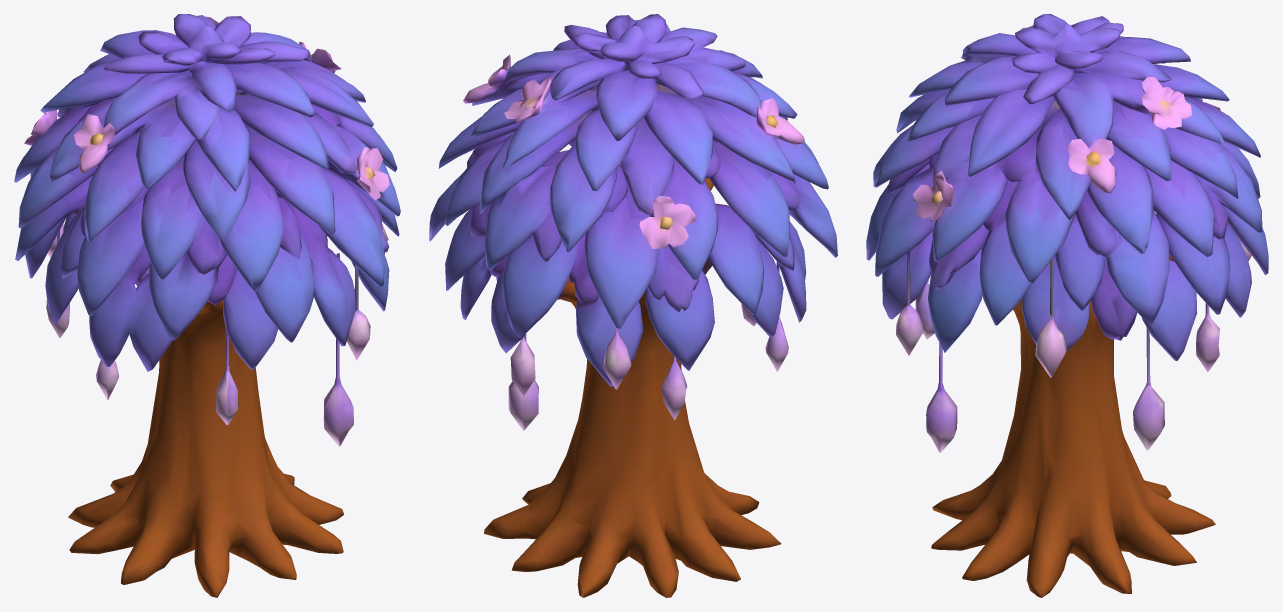
File: tree_fairy_blossom.glb
3 views of the same model, side by side, from view 1: azimuth 30°, elevation 25°; view 2: azimuth 150°, elevation 25°; view 3: azimuth 270°, elevation 25° (orthographic).
Visible parts, largest first — view 1: tripo_node_2ec56a42-de9b-4482-ad58-88979ff21db5; view 2: tripo_node_2ec56a42-de9b-4482-ad58-88979ff21db5; view 3: tripo_node_2ec56a42-de9b-4482-ad58-88979ff21db5.
Part boxes in pixels (<box>): tripo_node_2ec56a42-de9b-4482-ad58-88979ff21db5: <box>14,14,400,597</box>; tripo_node_2ec56a42-de9b-4482-ad58-88979ff21db5: <box>429,14,837,597</box>; tripo_node_2ec56a42-de9b-4482-ad58-88979ff21db5: <box>866,14,1268,597</box>.
Size of the model in its own units: 3.36 by 4.8 by 3.41.
1 material, 1 textured.
